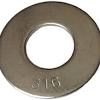No thread: (23, 26, 78, 71)
